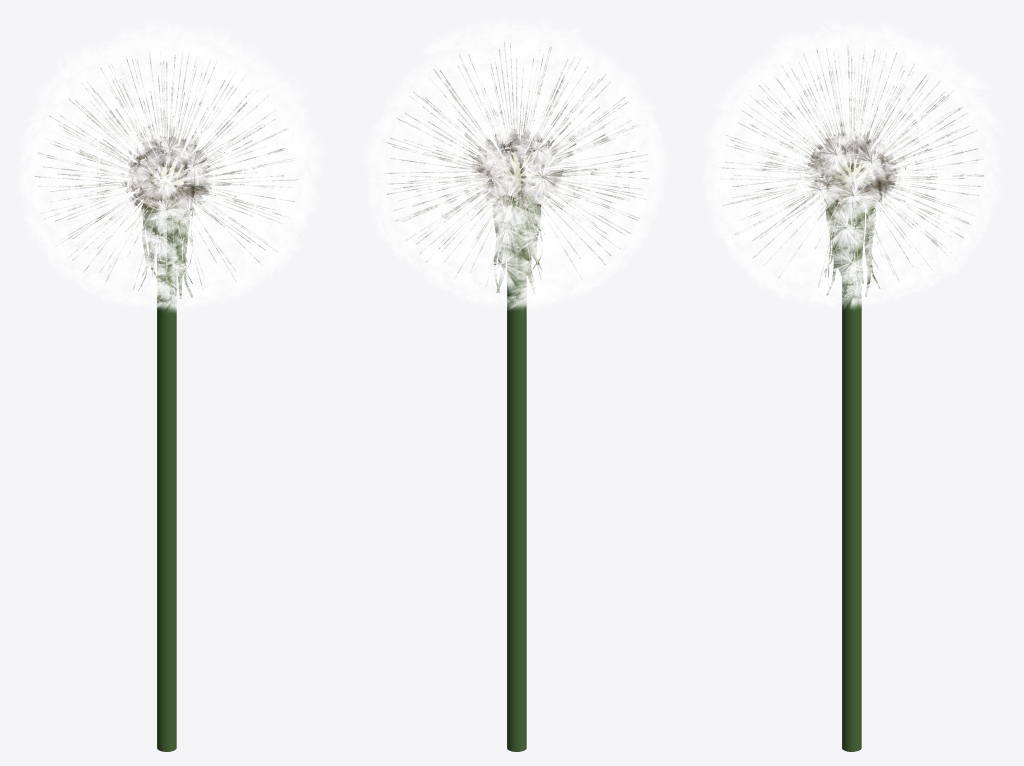
The model's file is flyingSeed.glb.
3 views of the same model, side by side, from view 1: azimuth 30°, elevation 25°; view 2: azimuth 150°, elevation 25°; view 3: azimuth 270°, elevation 25° (orthographic).
Parts seen in each view (by area): view 1: pCylinder1, polySurface3.112, polySurface3.114, polySurface3.115, polySurface3.113, polySurface3.056, polySurface3.157, polySurface2, polySurface3.111, polySurface3.158, polySurface3.015, polySurface3.022 (+66 smaller); view 2: pCylinder1, polySurface3.062, polySurface3.078, polySurface3.080, polySurface3.064, polySurface3.061, polySurface3.060, polySurface3.122, polySurface3.077, polySurface3.076, polySurface3.059, polySurface3.081 (+57 smaller); view 3: pCylinder1, polySurface3.003, polySurface3.051, polySurface3.154, polySurface3.005, polySurface3.004, polySurface3.001, polySurface3.153, polySurface2, polySurface3.072, polySurface3.010, polySurface3.030 (+60 smaller).
Boxes of the visible parts, bbox=[...] form: pCylinder1: bbox=[157, 209, 176, 751]; polySurface3.112: bbox=[101, 100, 169, 163]; polySurface3.114: bbox=[91, 159, 158, 226]; polySurface3.115: bbox=[89, 201, 157, 265]; polySurface3.113: bbox=[95, 128, 163, 195]; polySurface3.056: bbox=[209, 87, 265, 148]; polySurface3.157: bbox=[151, 59, 220, 111]; polySurface2: bbox=[138, 193, 192, 300]; polySurface3.111: bbox=[108, 76, 177, 133]; polySurface3.158: bbox=[178, 75, 240, 131]; polySurface3.015: bbox=[241, 131, 289, 201]; polySurface3.022: bbox=[194, 168, 243, 226]; pCylinder1: bbox=[507, 205, 526, 751]; polySurface3.062: bbox=[511, 140, 577, 214]; polySurface3.078: bbox=[464, 111, 533, 184]; polySurface3.080: bbox=[474, 169, 541, 241]; polySurface3.064: bbox=[515, 205, 579, 269]; polySurface3.061: bbox=[507, 113, 574, 175]; polySurface3.060: bbox=[505, 81, 569, 147]; polySurface3.122: bbox=[551, 162, 611, 235]; polySurface3.077: bbox=[458, 87, 524, 156]; polySurface3.076: bbox=[447, 65, 513, 126]; polySurface3.059: bbox=[497, 56, 562, 111]; polySurface3.081: bbox=[471, 197, 538, 264]; pCylinder1: bbox=[842, 202, 861, 751]; polySurface3.003: bbox=[764, 109, 825, 180]; polySurface3.051: bbox=[781, 89, 843, 153]; polySurface3.154: bbox=[805, 71, 867, 132]; polySurface3.005: bbox=[744, 163, 803, 233]; polySurface3.004: bbox=[764, 140, 826, 211]; polySurface3.001: bbox=[725, 126, 775, 196]; polySurface3.153: bbox=[823, 53, 886, 108]; polySurface2: bbox=[824, 191, 880, 297]; polySurface3.072: bbox=[914, 141, 969, 210]; polySurface3.010: bbox=[826, 164, 882, 226]; polySurface3.030: bbox=[747, 191, 805, 257].
Size of the model in its own units: 0.0676 by 0.1771 by 0.069.
Materials: 6 (1 with a texture image).
